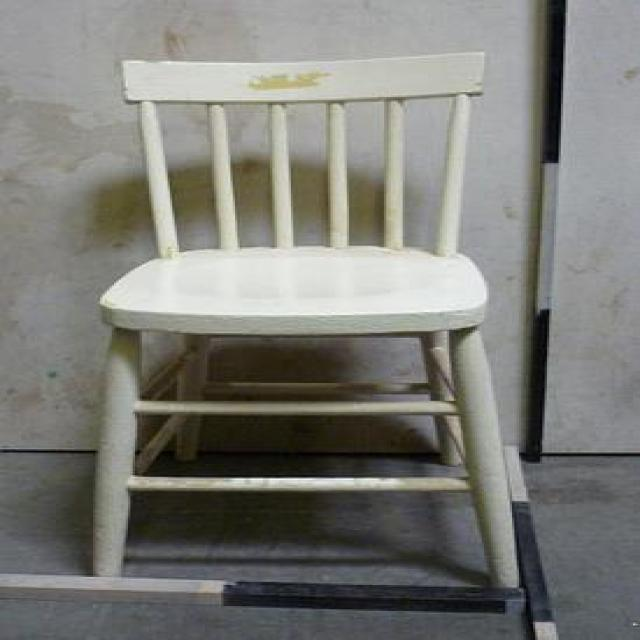chair: (88, 49, 526, 588)
